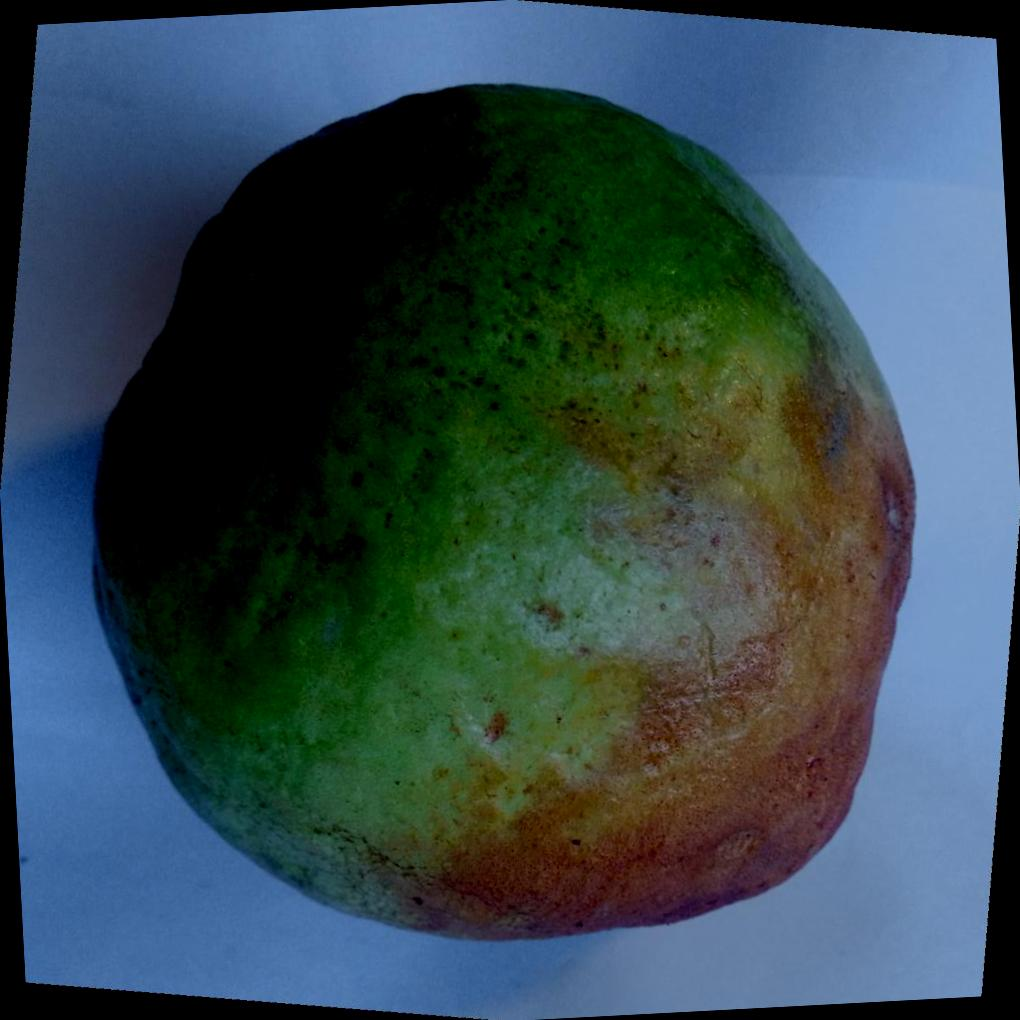FreshOrange: (86, 80, 914, 943)
